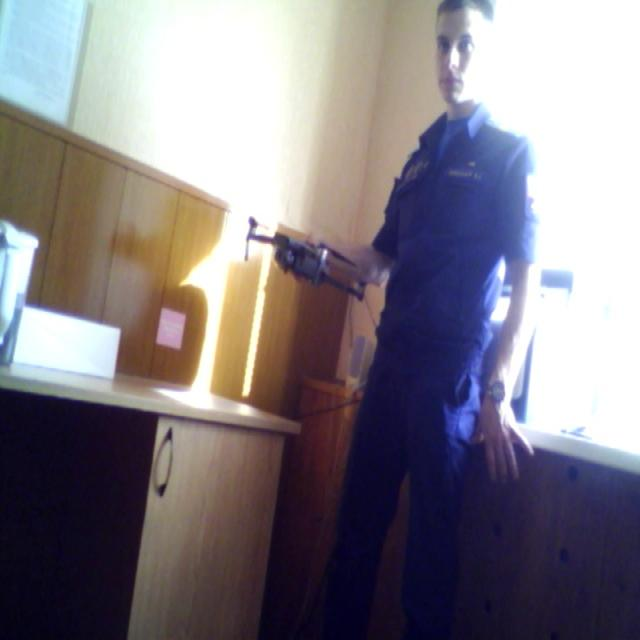drone: (232, 202, 377, 316)
